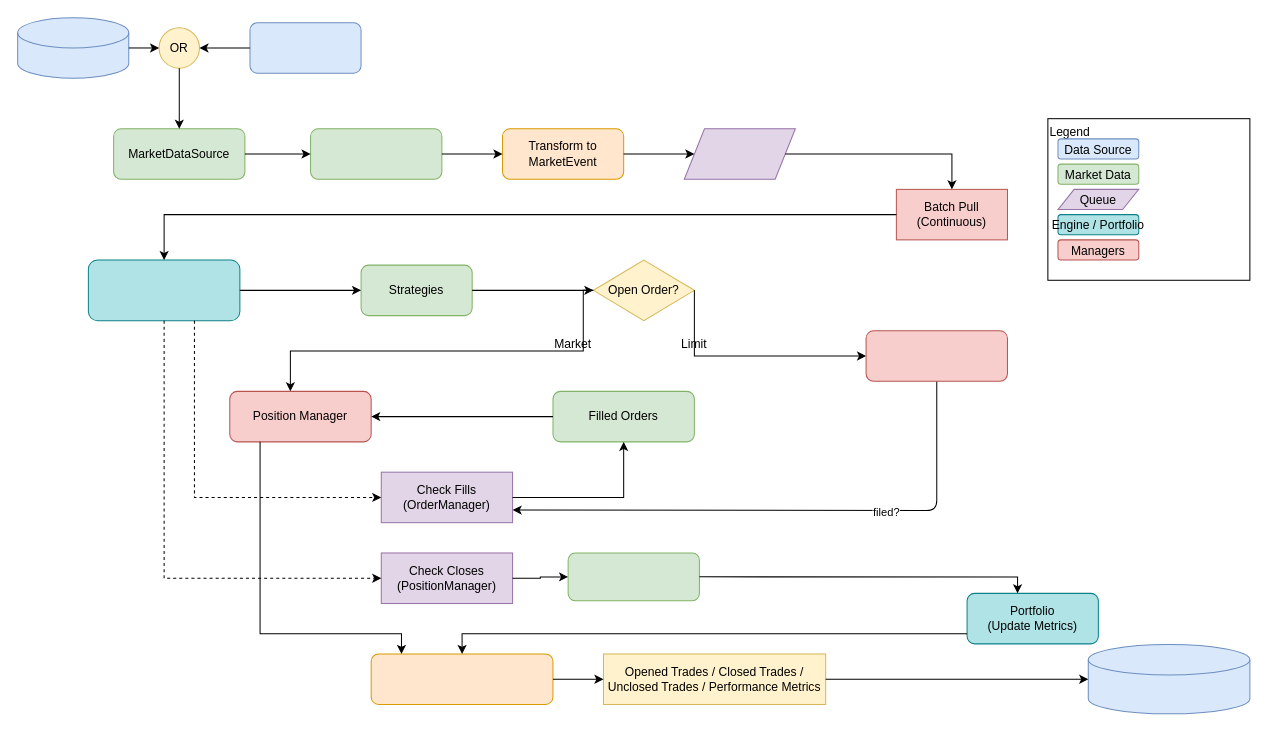
This 1268x732 diagram has some shape labels left out. Here are the shapes that lost their labels. From the top down, the box of each, then its label:
(17, 17, 129, 78): Database
(249, 22, 361, 73): User Input
(310, 128, 442, 179): MarketDataReplayer
(683, 128, 795, 179): Event Queue
(87, 259, 240, 321): Backtesting Engine
(865, 330, 1007, 381): Order Manager
(567, 552, 699, 601): Closed Orders
(370, 653, 553, 704): Backtest Results Aggregator
(1087, 644, 1250, 714): Database (Results Storage)
